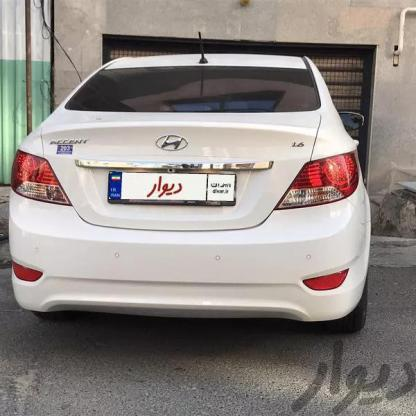Car: (6, 42, 374, 340)
